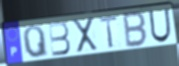B: (122, 10, 148, 49), (47, 21, 72, 58)
Q: (22, 24, 50, 59)
T: (98, 14, 119, 50)
U: (148, 8, 172, 44)
X: (71, 17, 100, 55)
